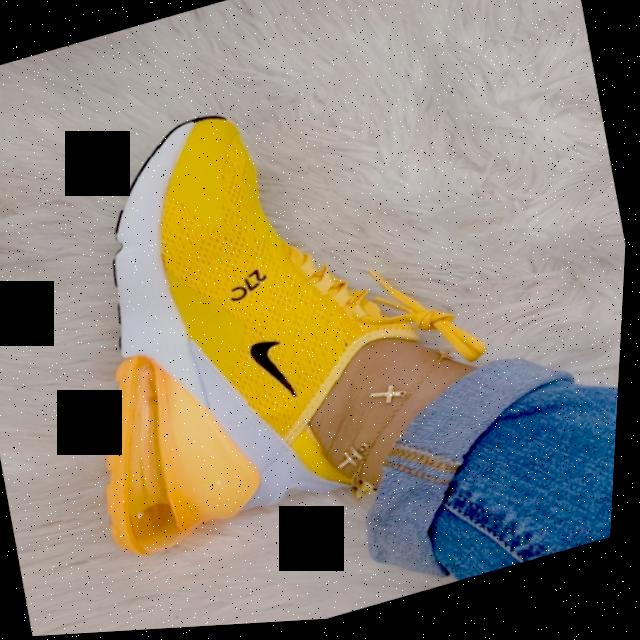shoe: (26, 79, 393, 583)
